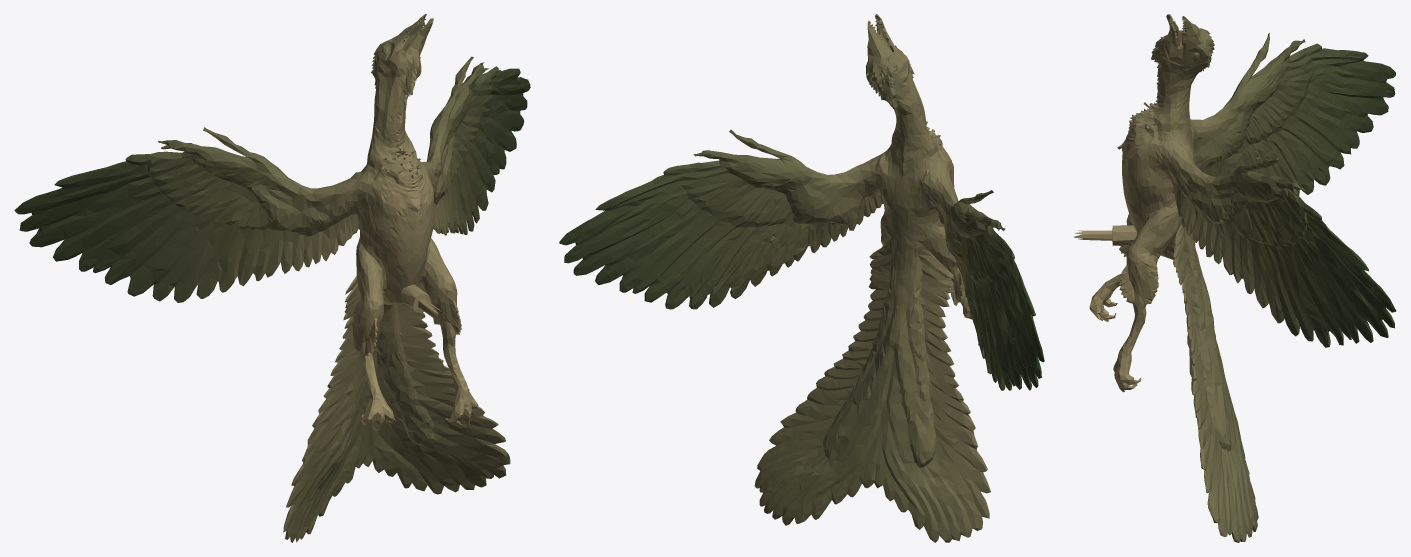
Rendered from archaeopteryx.glb.
3 renders of one model, left to right at view 1: azimuth 30°, elevation 25°; view 2: azimuth 150°, elevation 25°; view 3: azimuth 270°, elevation 25°, orthographic. The views are drawn at different scales.
Parts seen in each view (by area): view 1: archaeopteryx; view 2: archaeopteryx; view 3: archaeopteryx.
Boxes of the visible parts, bbox=[...] form: archaeopteryx: bbox=[14, 14, 530, 542]; archaeopteryx: bbox=[559, 14, 1044, 542]; archaeopteryx: bbox=[1074, 14, 1396, 542].
Size of the model in its own units: 127 by 123 by 73.13.
